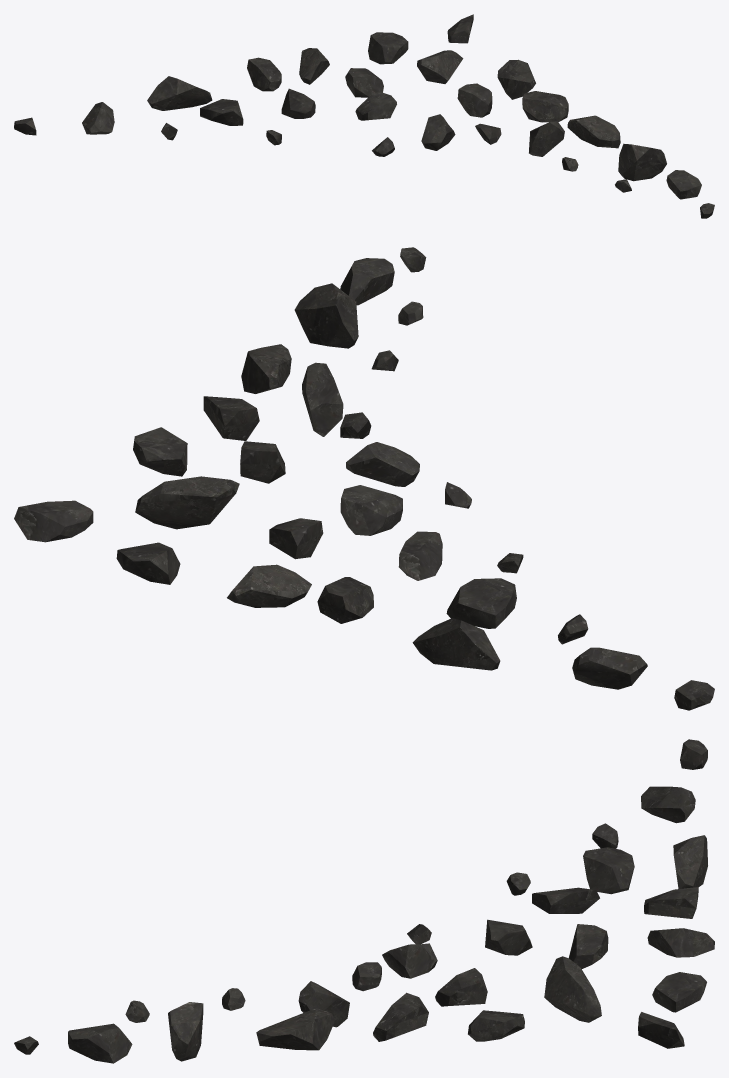
The picture shows the model from 3 angles, top to bottom: view 1: azimuth 30°, elevation 25°; view 2: azimuth 150°, elevation 25°; view 3: azimuth 270°, elevation 25°; orthographic projection. The views are drawn at different scales.
Parts seen in each view (by area): view 1: SM_DR_Rubble_Small_02_LOD0; view 2: SM_DR_Rubble_Small_02_LOD0; view 3: SM_DR_Rubble_Small_02_LOD0.
Part boxes in pixels (<box>): SM_DR_Rubble_Small_02_LOD0: <box>14,14,714,218</box>; SM_DR_Rubble_Small_02_LOD0: <box>14,247,714,710</box>; SM_DR_Rubble_Small_02_LOD0: <box>14,739,714,1063</box>.
Bounding box in the file's own units: 6.02 × 0.5101 × 5.96.
Materials: 1 (1 with a texture image).
